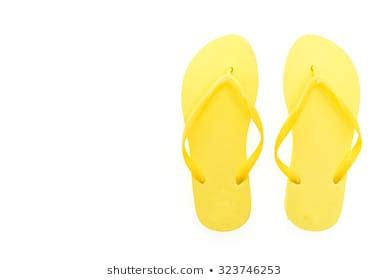???: (274, 33, 363, 232), (180, 33, 265, 232)
